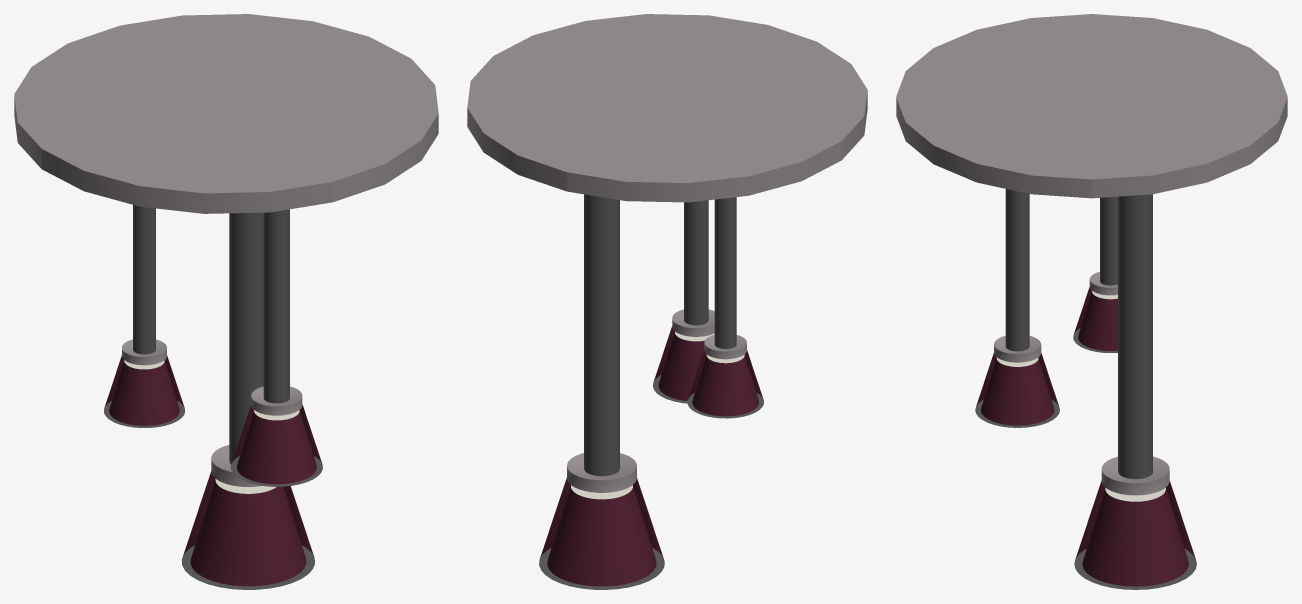
File: Lampara.fbx
3 views of the same model, side by side, from view 1: azimuth 30°, elevation 25°; view 2: azimuth 150°, elevation 25°; view 3: azimuth 270°, elevation 25° (orthographic). The views are drawn at different scales.
Parts seen in each view (by area): view 1: LamparaTecho; view 2: LamparaTecho; view 3: LamparaTecho.
Boxes of the visible parts, <box> form: LamparaTecho: <box>14,14,438,589</box>; LamparaTecho: <box>467,14,867,589</box>; LamparaTecho: <box>896,14,1287,589</box>.
Bounding box in the file's own units: 153 × 193 × 153.
